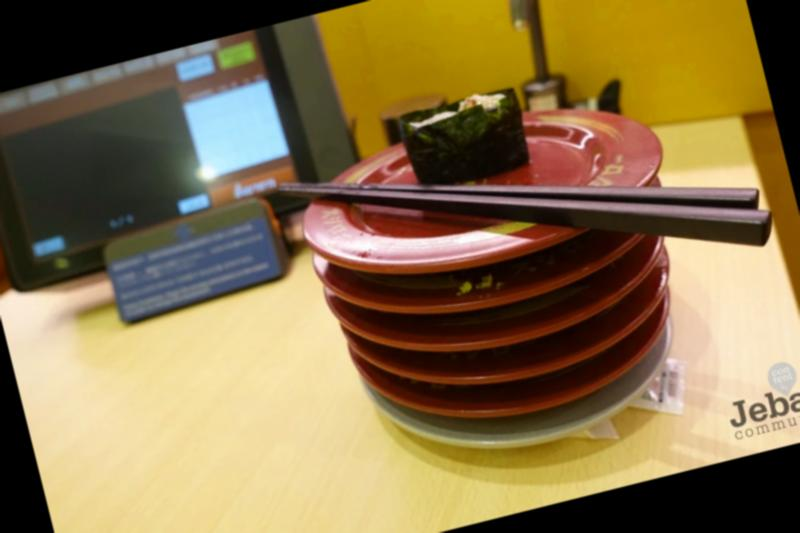Janred: (306, 124, 664, 292), (351, 214, 676, 338), (384, 262, 685, 372), (416, 310, 698, 404), (451, 361, 654, 425)
Janwhite: (402, 376, 721, 481)
